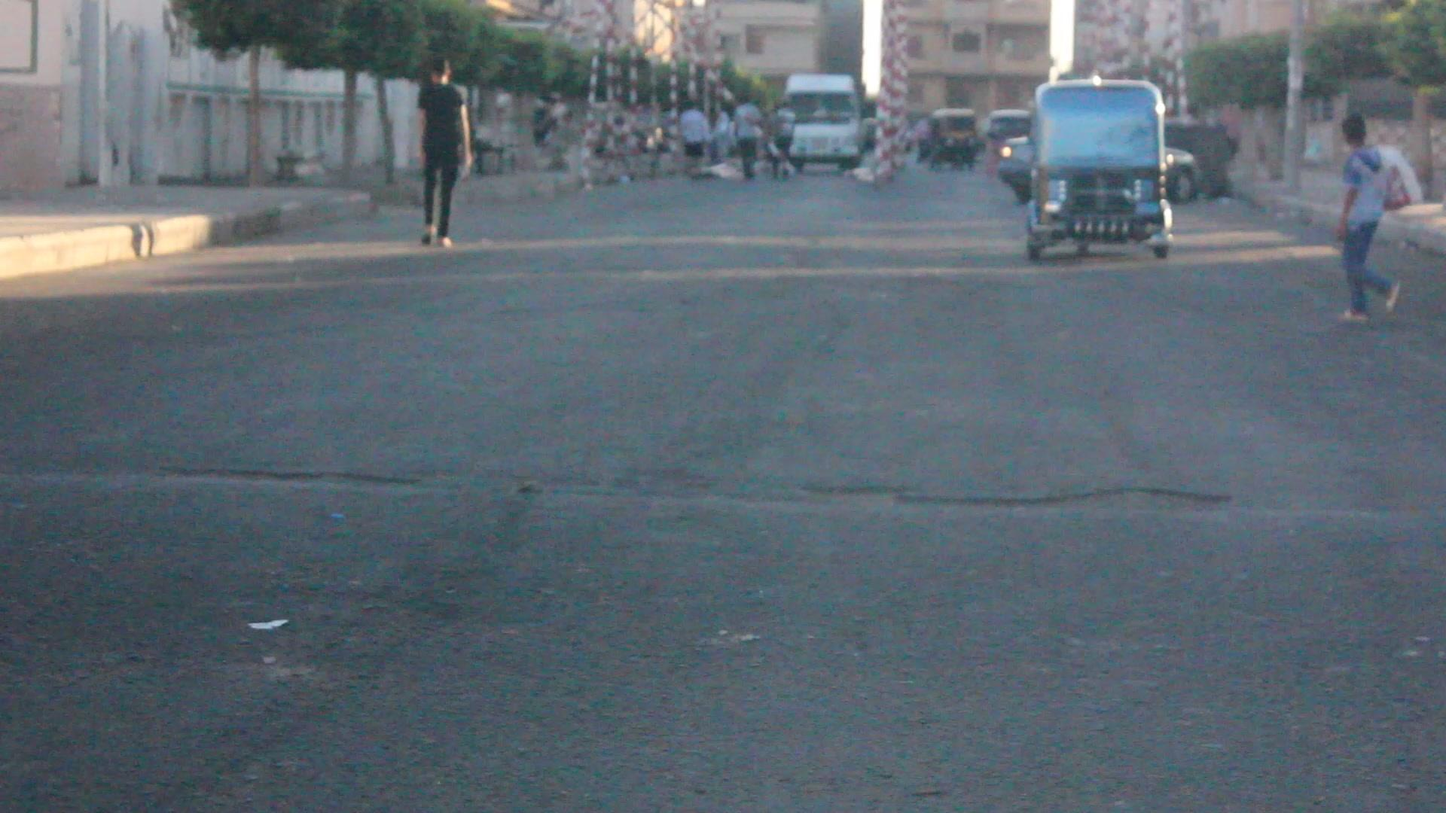Pothole: (483, 449, 1243, 529)
